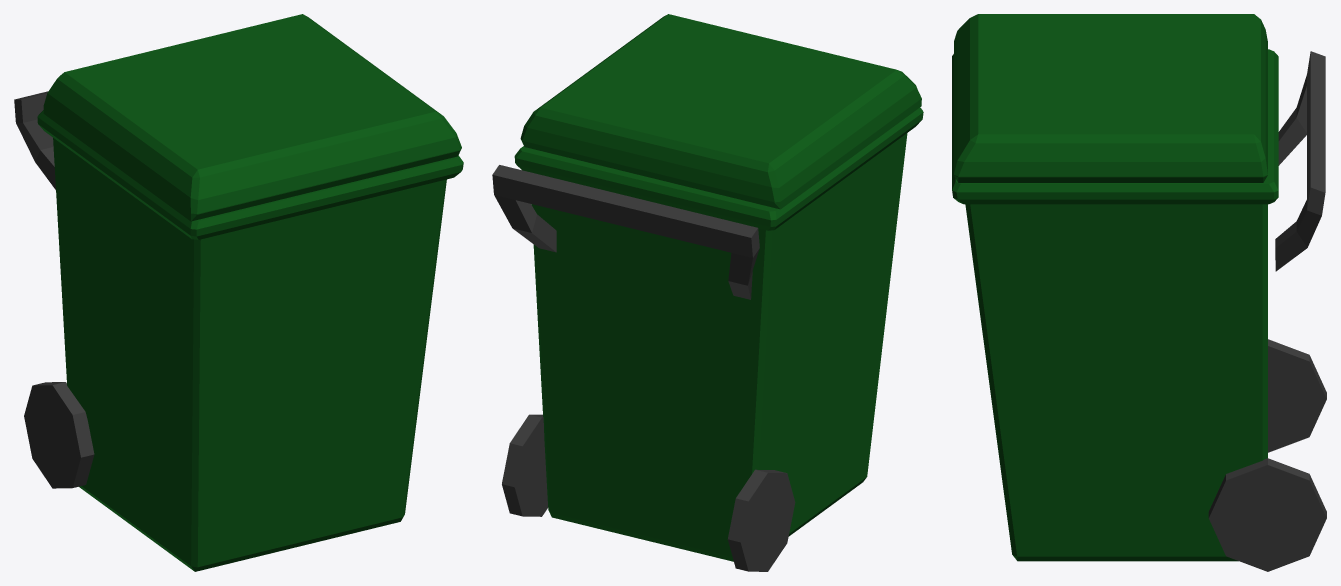
Rendered from char_trashBin.fbx.
3 renders of one model, left to right at view 1: azimuth 30°, elevation 25°; view 2: azimuth 150°, elevation 25°; view 3: azimuth 270°, elevation 25°, orthographic. The views are drawn at different scales.
Visible parts, largest first — view 1: trashBin, trashCap, trashBan, trashHandle; view 2: trashBin, trashCap, trashHandle, trashBan; view 3: trashBin, trashCap, trashBan, trashHandle.
Part boxes in pixels (x1,y1,x2,y2): trashBin: (37, 110, 463, 571); trashCap: (43, 14, 461, 221); trashBan: (24, 382, 94, 488); trashHandle: (14, 91, 55, 189); trashBin: (514, 107, 923, 561); trashCap: (520, 14, 921, 209); trashHandle: (492, 165, 759, 299); trashBan: (502, 414, 795, 571); trashBin: (952, 49, 1278, 561); trashCap: (954, 14, 1267, 182); trashBan: (1208, 339, 1326, 571); trashHandle: (1275, 51, 1325, 271).
Size of the model in its own units: 115 by 169 by 132.
